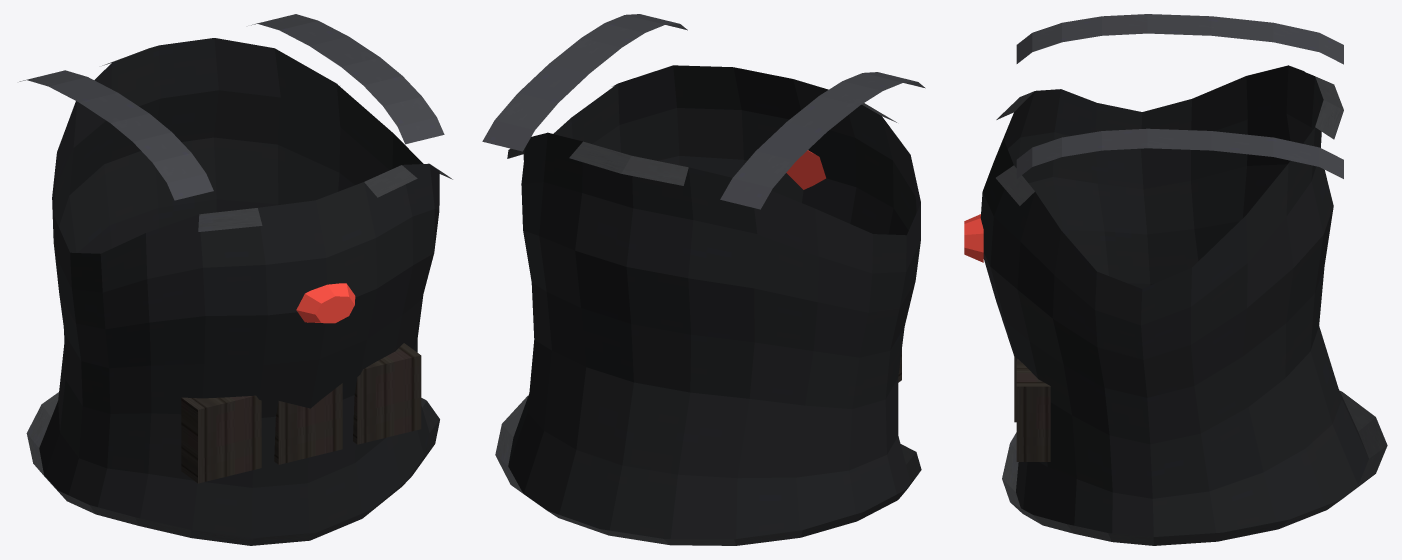
File: eq_present_3_chest.glb
3 renders of one model, left to right at view 1: azimuth 30°, elevation 25°; view 2: azimuth 150°, elevation 25°; view 3: azimuth 270°, elevation 25°, orthographic. The views are drawn at different scales.
Visible parts, largest first — view 1: eq_present_3_chest; view 2: eq_present_3_chest; view 3: eq_present_3_chest.
Part boxes in pixels (x1,y1,x2,y2): eq_present_3_chest: (19,14,452,545); eq_present_3_chest: (482,14,925,545); eq_present_3_chest: (964,14,1387,545).
Bounding box in the file's own units: 0.4602 × 0.4658 × 0.4349.
5 materials, 5 textured.
